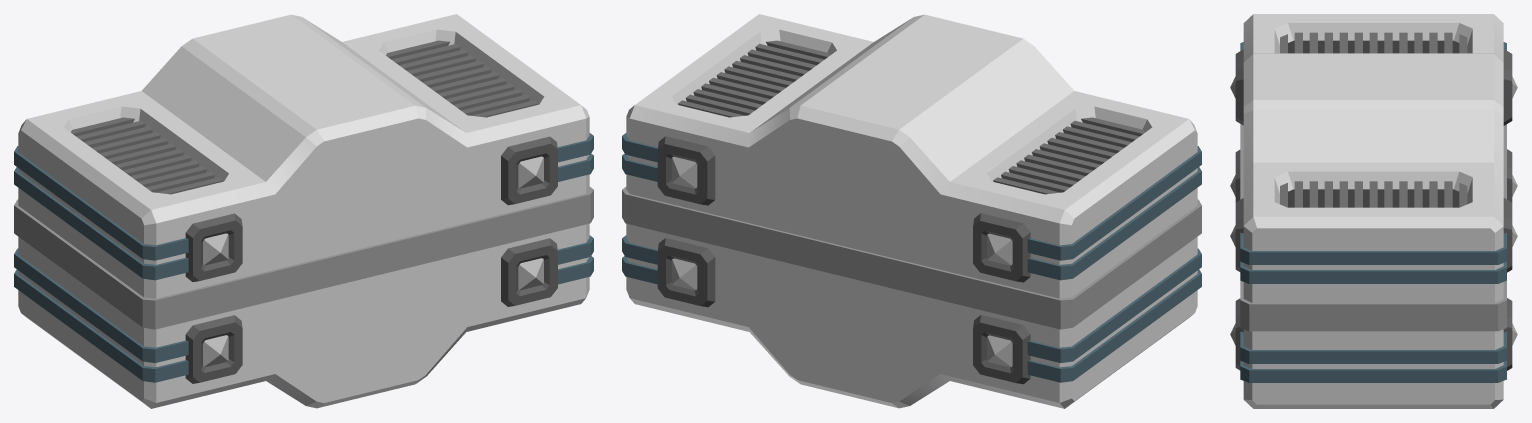
File: space_station_decoration_003.fbx
The picture shows the model from 3 angles, left to right: view 1: azimuth 30°, elevation 25°; view 2: azimuth 150°, elevation 25°; view 3: azimuth 270°, elevation 25°; orthographic projection. The views are drawn at different scales.
Parts seen in each view (by area): view 1: space_station_decoration_003; view 2: space_station_decoration_003; view 3: space_station_decoration_003.
Part boxes in pixels (x1,y1,x2,y2): space_station_decoration_003: (14, 14, 593, 408); space_station_decoration_003: (622, 14, 1201, 408); space_station_decoration_003: (1230, 14, 1517, 408).
Bounding box in the file's own units: 846 × 483 × 499.
